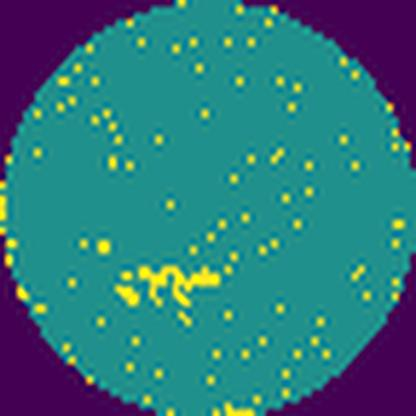Loc: (137, 264, 220, 310)
